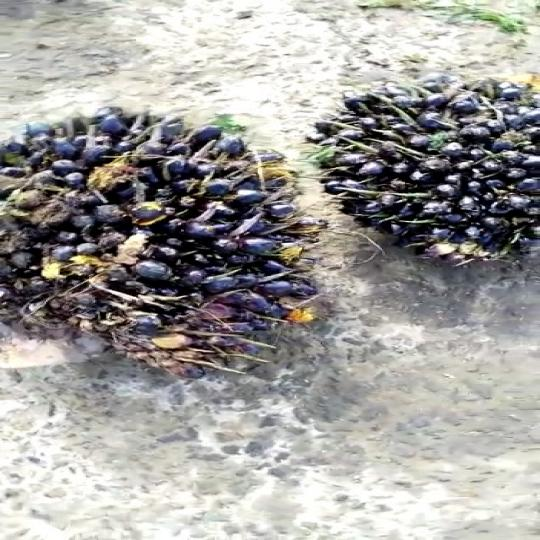mentah: (0, 94, 357, 357), (320, 73, 540, 273)
